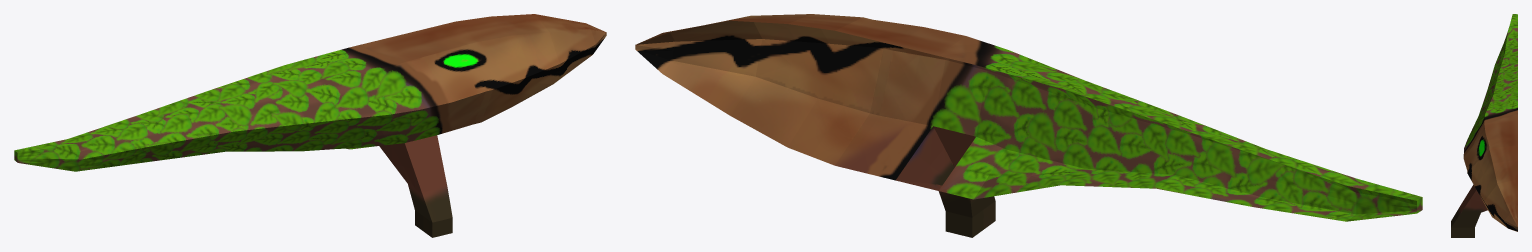
File: beaks.dae
The picture shows the model from 3 angles, left to right: view 1: azimuth 30°, elevation 25°; view 2: azimuth 150°, elevation 25°; view 3: azimuth 270°, elevation 25°; orthographic projection. The views are drawn at different scales.
Visible parts, largest first — view 1: Куб; view 2: Куб; view 3: Куб.
Part boxes in pixels (bbox=[...]): Куб: bbox=[14, 14, 606, 237]; Куб: bbox=[635, 14, 1422, 237]; Куб: bbox=[1451, 14, 1517, 237].
Bounding box in the file's own units: 12.13 × 1.75 × 3.18.
1 material, 1 textured.
